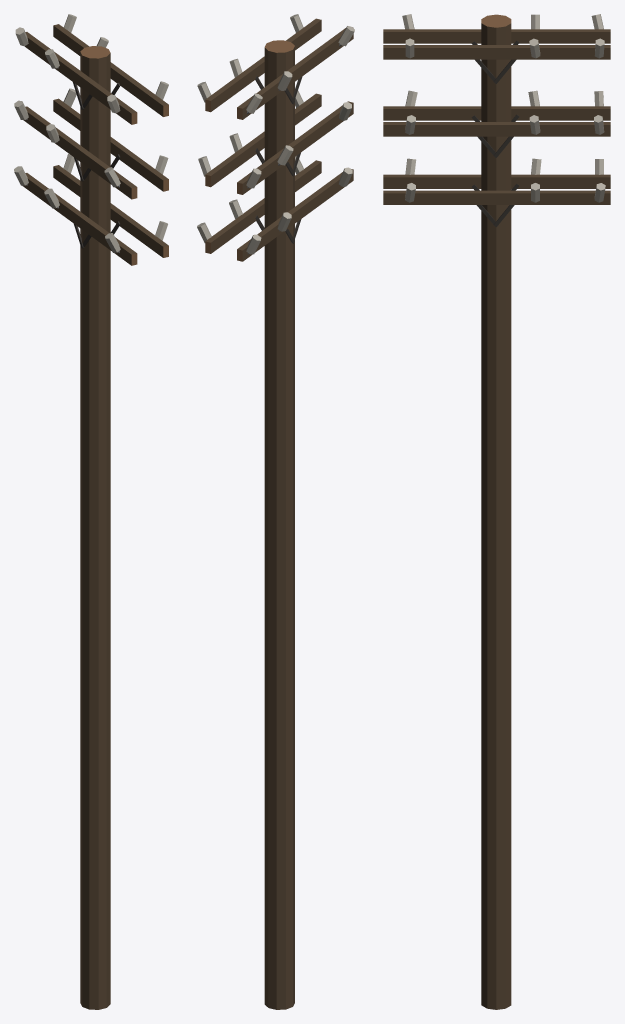
File: SM_utility_pole_3.gltf
3 renders of one model, left to right at view 1: azimuth 30°, elevation 25°; view 2: azimuth 150°, elevation 25°; view 3: azimuth 270°, elevation 25°, orthographic. The views are drawn at different scales.
Visible parts, largest first — view 1: SM_utility_pole_3; view 2: SM_utility_pole_3; view 3: SM_utility_pole_3.
Boxes of the visible parts, left/top/right/bottom form: SM_utility_pole_3: left=14, top=14, right=168, bottom=1009; SM_utility_pole_3: left=197, top=14, right=354, bottom=1009; SM_utility_pole_3: left=383, top=14, right=610, bottom=1009.
Size of the model in its own units: 0.654 by 9.48 by 1.99.
1 material, 1 textured.
